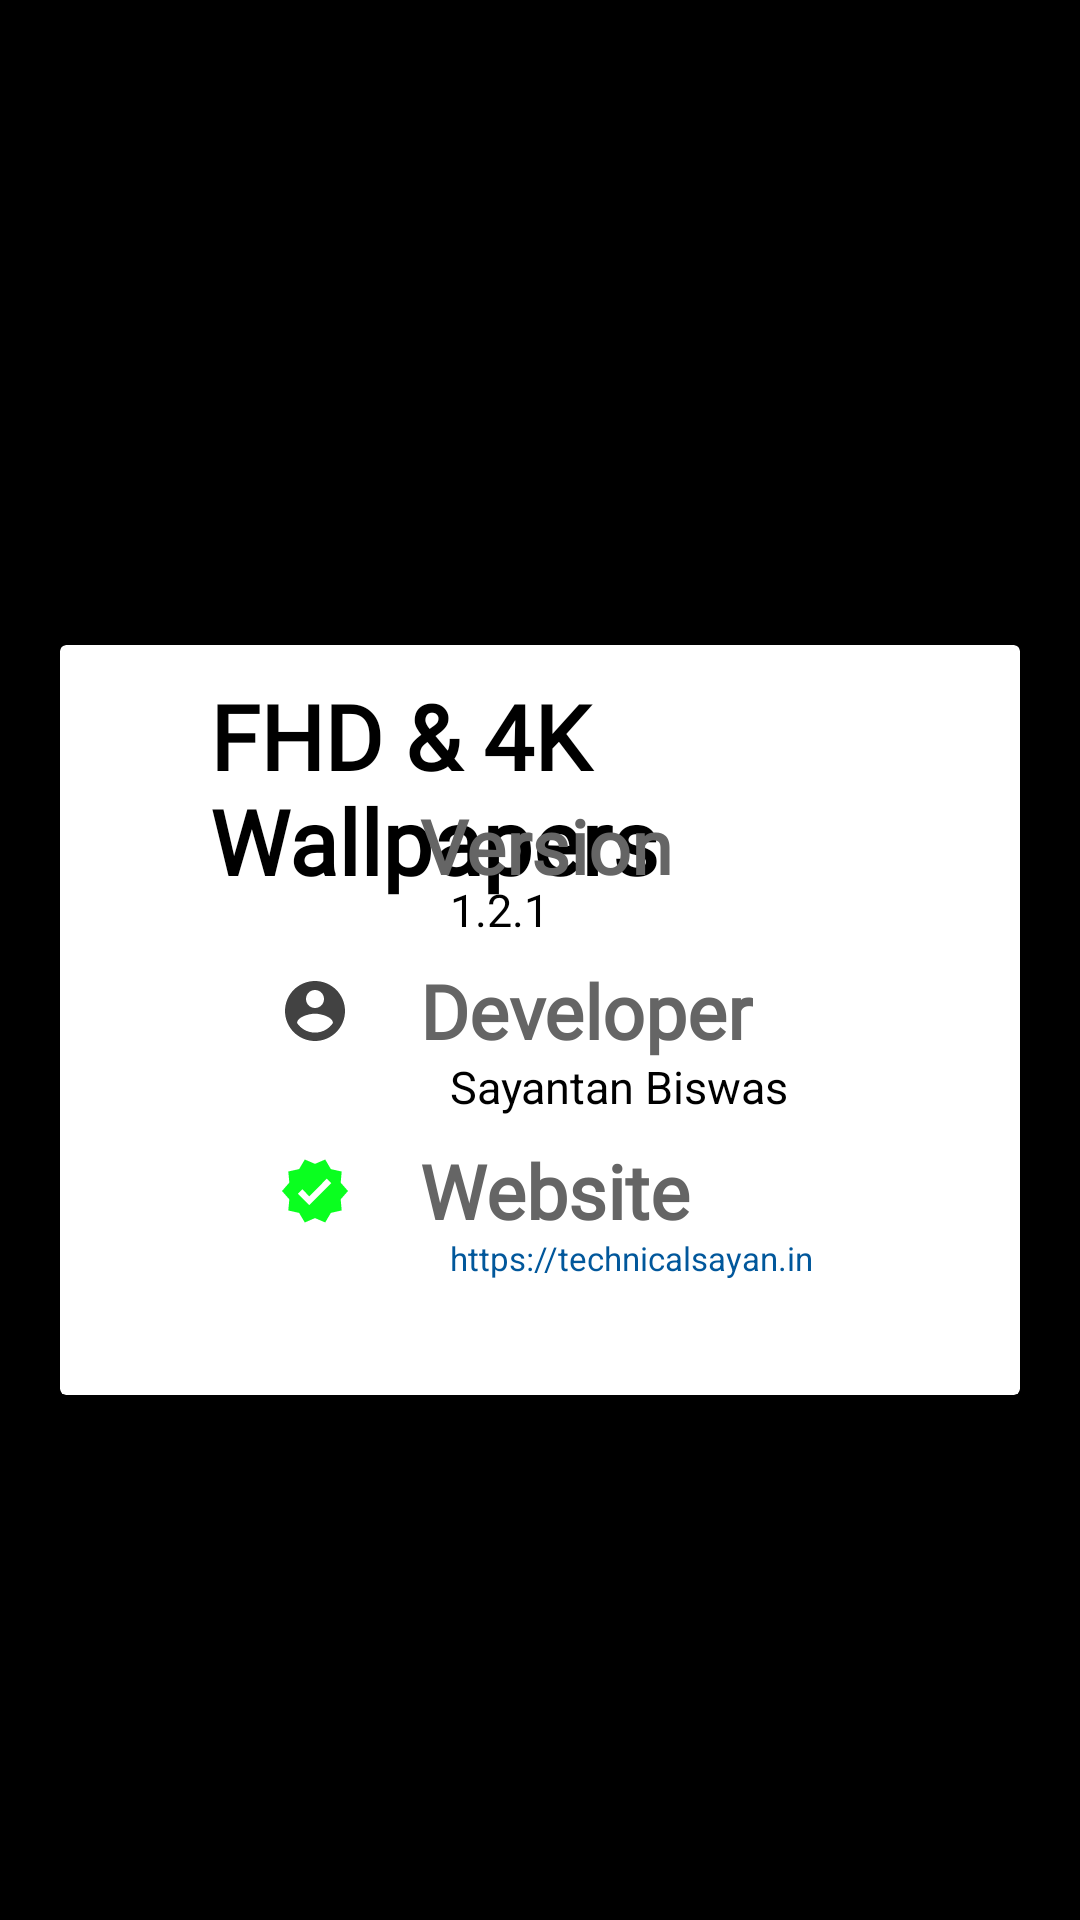

Where icons sit on this 1080px×1920px app screen, as (x1, y1, x2, y2):
account circle: (285, 981, 345, 1041)
verified: (282, 1159, 348, 1223)
